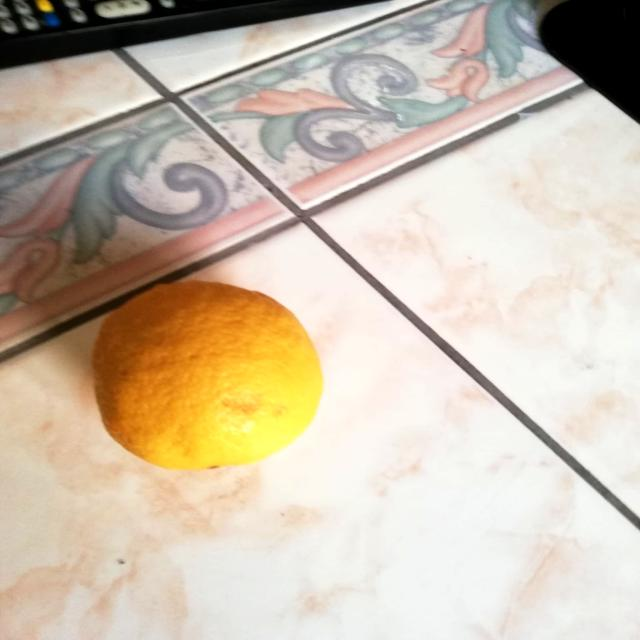lemon: (84, 272, 330, 477)
